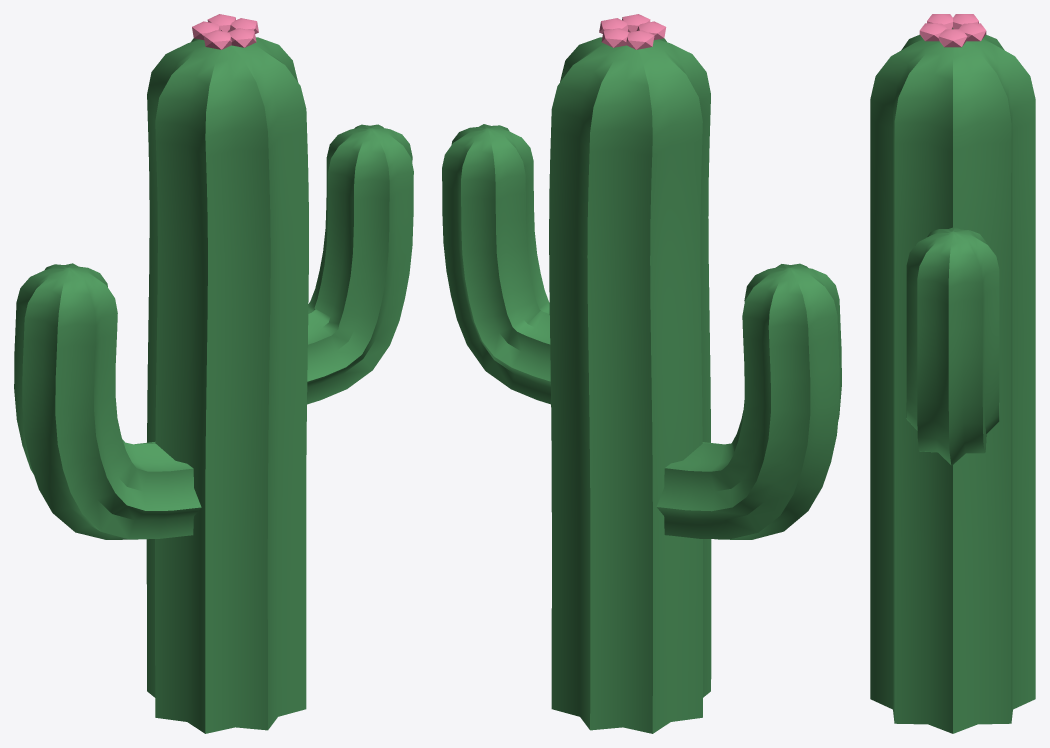
File: cactus.glb
3 renders of one model, left to right at view 1: azimuth 30°, elevation 25°; view 2: azimuth 150°, elevation 25°; view 3: azimuth 270°, elevation 25°, orthographic.
Visible parts, largest first — view 1: Cactus, Flower; view 2: Cactus, Flower; view 3: Cactus, Flower.
Boxes of the visible parts, x1=… form: Cactus: x1=14, y1=37, x2=413, y2=733; Flower: x1=192, y1=14, x2=258, y2=49; Cactus: x1=442, y1=37, x2=841, y2=733; Flower: x1=599, y1=14, x2=666, y2=49; Cactus: x1=870, y1=28, x2=1035, y2=733; Flower: x1=919, y1=14, x2=986, y2=47.
Bounding box in the file's own units: 2.93 × 4.86 × 1.08.
